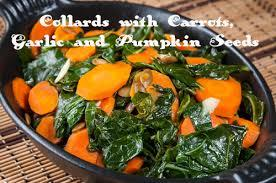Organic: (5, 1, 276, 169)
